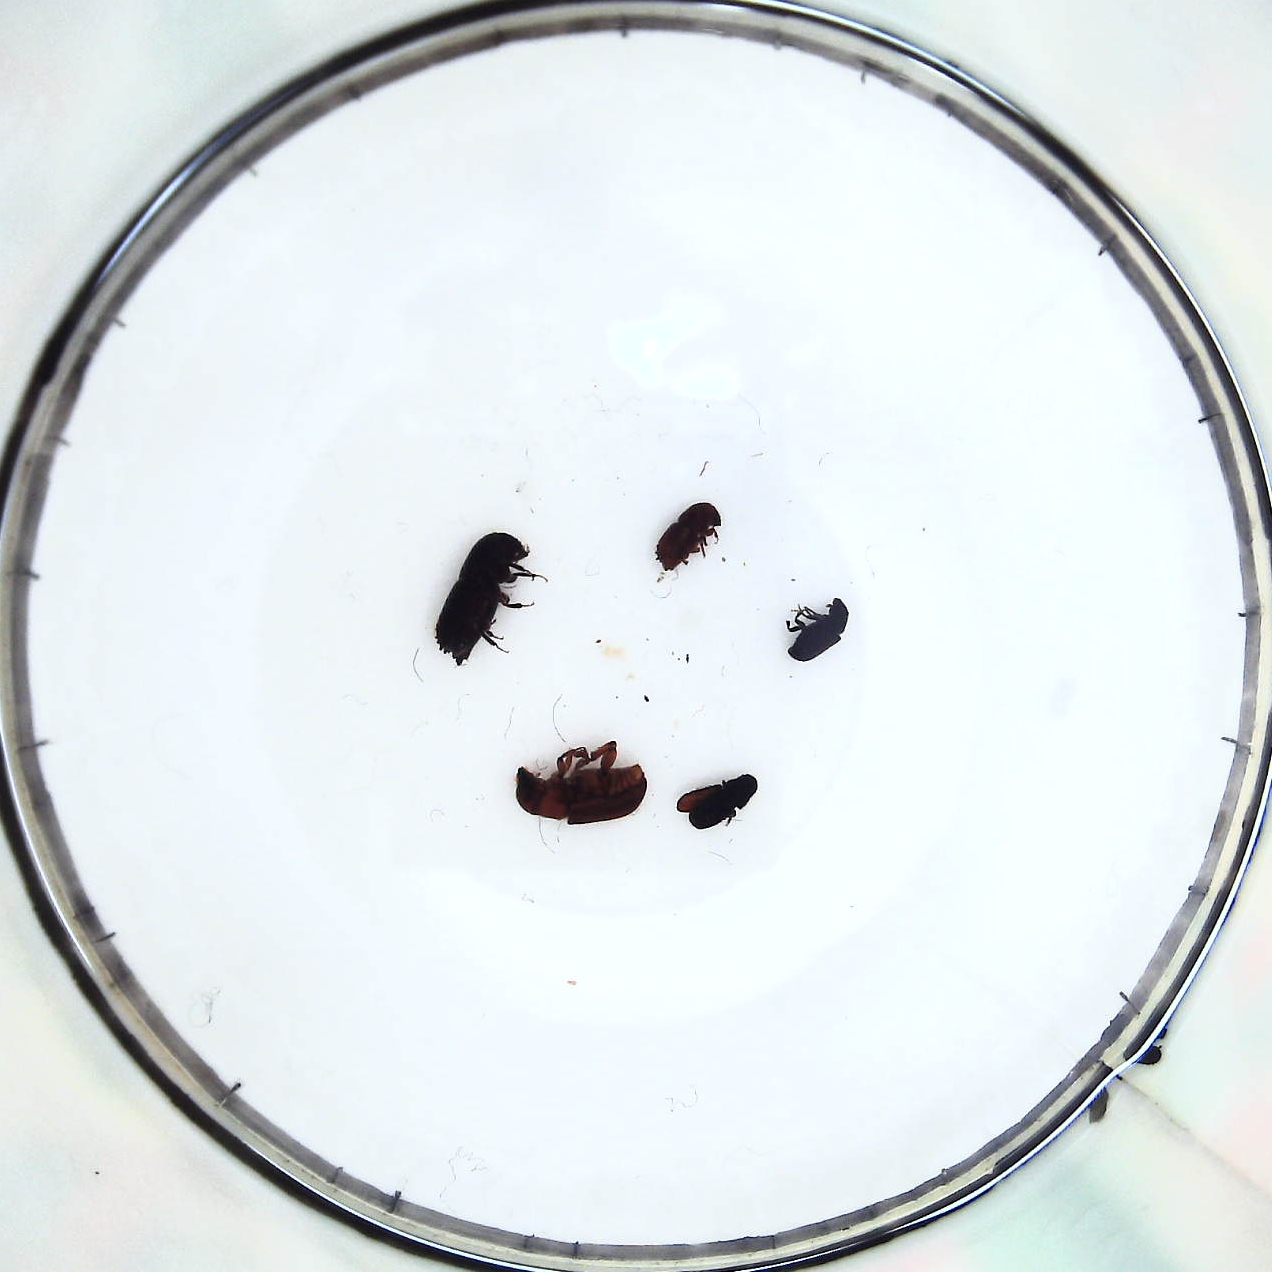Boerner: (434, 532, 533, 665)
Leconte: (509, 745, 646, 828)
Linnaeus: (656, 500, 720, 571)
armandi: (680, 773, 757, 832)
coleoptera: (786, 594, 851, 659)
